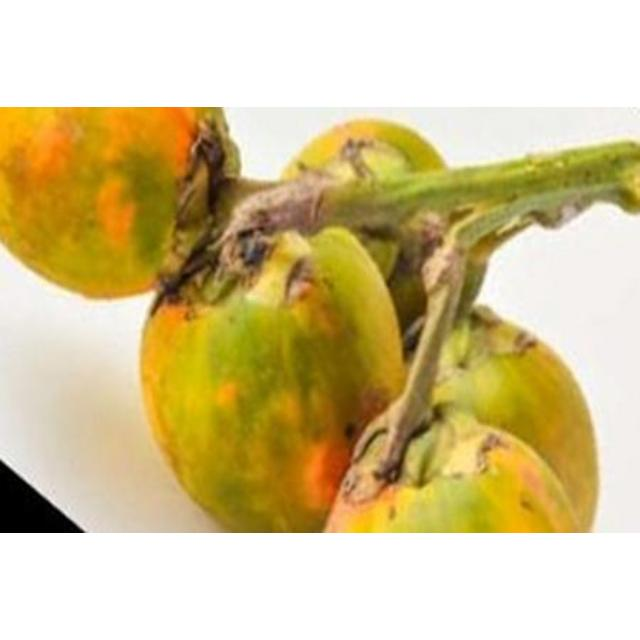good: (139, 217, 410, 532), (0, 107, 235, 300), (433, 305, 605, 532), (323, 421, 579, 532)
